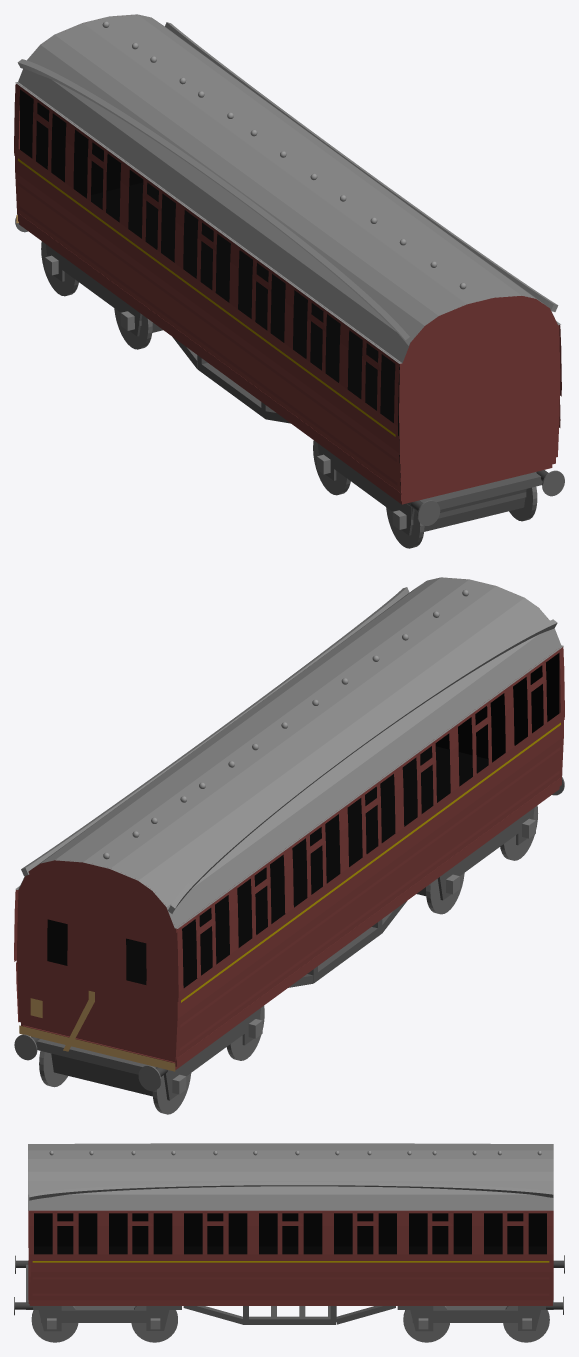
File: lner-standard-51ft-first-m.dae
3 renders of one model, top to bottom at view 1: azimuth 30°, elevation 25°; view 2: azimuth 150°, elevation 25°; view 3: azimuth 270°, elevation 25°, orthographic. The views are drawn at different scales.
Parts seen in each view (by area): view 1: Plane_083, Plane_001, Plane_359, Plane_019, Plane_002, Plane_009, Plane_012, Cube_029, Cube_043, Cube_070, Cube_028, Plane_007 (+3 smaller); view 2: Plane_083, Plane_006, Plane_359, Plane_019, Plane_002, Plane_009, Cube_043, Plane_012, Cube_029, Cube_028, Plane_003, Plane_007 (+4 smaller); view 3: Plane_002, Plane_359, Plane_019, Plane_011, Plane_083, Cube_043, Cube_028, Plane_012, Cube_072, Plane_007, Cube_027, Cylinder_000 (+6 smaller).
Boxes of the visible parts, x1,y1,x2,y2 form: Plane_083: (15, 20, 478, 363); Plane_001: (399, 296, 560, 494); Plane_359: (15, 85, 559, 494); Plane_019: (19, 89, 400, 485); Plane_002: (95, 14, 560, 325); Plane_009: (14, 84, 399, 436); Plane_012: (18, 213, 555, 501); Cube_029: (17, 59, 411, 345); Cube_043: (41, 241, 162, 349); Cube_070: (401, 472, 542, 535); Cube_028: (165, 22, 558, 311); Plane_007: (19, 222, 552, 504); Plane_083: (97, 583, 563, 928); Plane_006: (17, 860, 178, 1059); Plane_359: (16, 647, 563, 1060); Plane_019: (47, 653, 559, 987); Plane_002: (15, 577, 482, 889); Plane_009: (177, 647, 564, 1001); Cube_043: (36, 1006, 264, 1114); Plane_012: (21, 777, 561, 1066); Cube_029: (168, 619, 557, 913); Cube_028: (21, 587, 409, 875); Plane_003: (19, 991, 175, 1071); Plane_007: (23, 787, 559, 1069); Plane_002: (28, 1154, 553, 1210); Plane_359: (28, 1210, 553, 1300); Plane_019: (34, 1213, 546, 1254); Plane_011: (28, 1211, 553, 1260); Plane_083: (28, 1144, 553, 1154); Cube_043: (397, 1300, 553, 1342); Cube_028: (29, 1182, 553, 1200); Plane_012: (28, 1300, 552, 1303); Cube_072: (41, 1306, 165, 1322); Plane_007: (29, 1300, 552, 1305); Cube_027: (243, 1316, 335, 1324); Cylinder_000: (131, 1306, 177, 1342).
Bounding box in the file's own units: 2.09 × 8.92 × 3.07.
